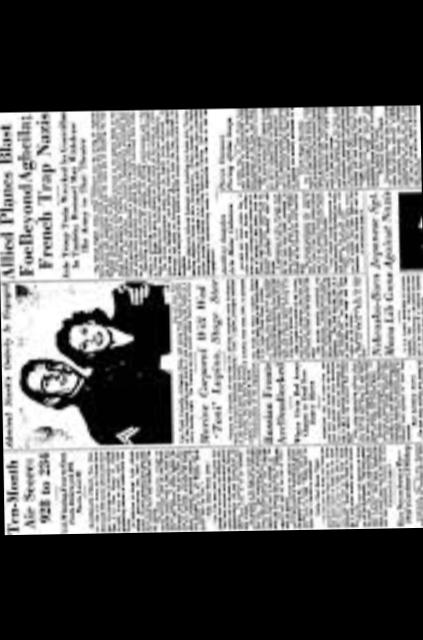cardboard paper: (0, 105, 423, 535)
